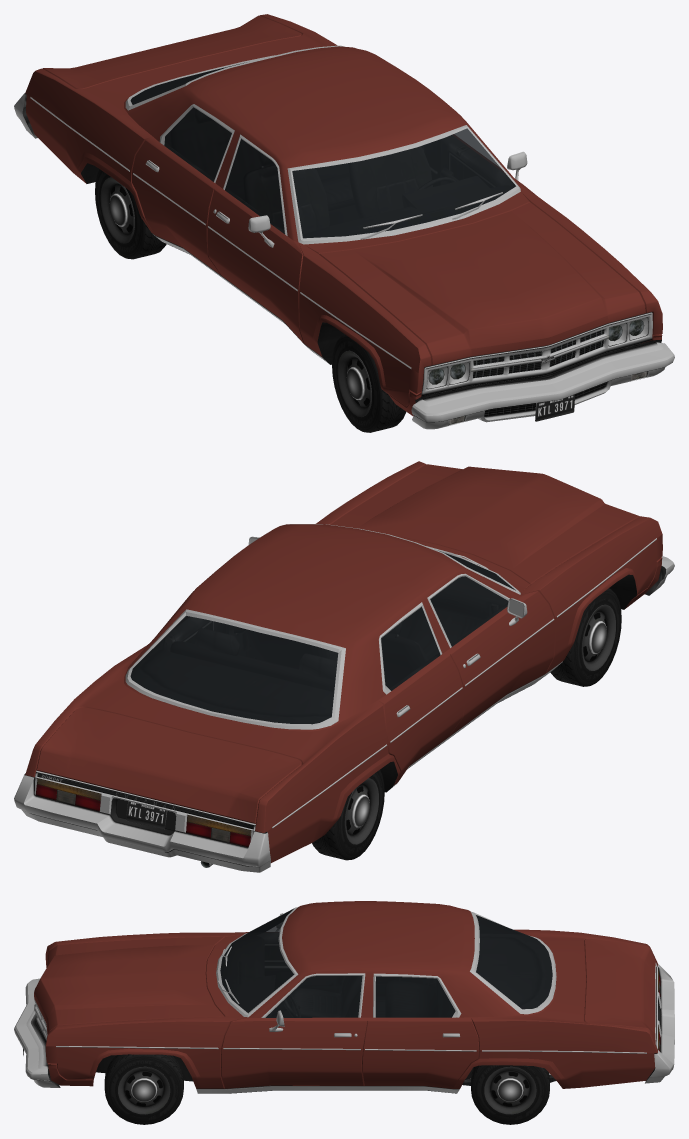
Rendered from chapman-73-low-poly-model-f30b64.glb.
The picture shows the model from 3 angles, top to bottom: view 1: azimuth 30°, elevation 25°; view 2: azimuth 150°, elevation 25°; view 3: azimuth 270°, elevation 25°; orthographic projection. The views are drawn at different scales.
Visible parts, largest first — view 1: body, wheel-front-right, wheel-back-right; view 2: body, wheel-back-right, wheel-front-right; view 3: body, wheel-front-left, wheel-back-left.
Part boxes in pixels (x1,y1,x2,y2): body: (14,14,674,429); wheel-front-right: (332,334,406,432); wheel-back-right: (95,169,166,259); body: (14,461,674,872); wheel-back-right: (186,770,384,860); wheel-front-right: (550,588,621,686); body: (14,901,674,1093); wheel-front-left: (104,1054,183,1124); wheel-back-left: (471,1032,660,1124).
Bounding box in the file's own units: 2.12 × 1.42 × 5.67.
8 materials, 7 textured.
